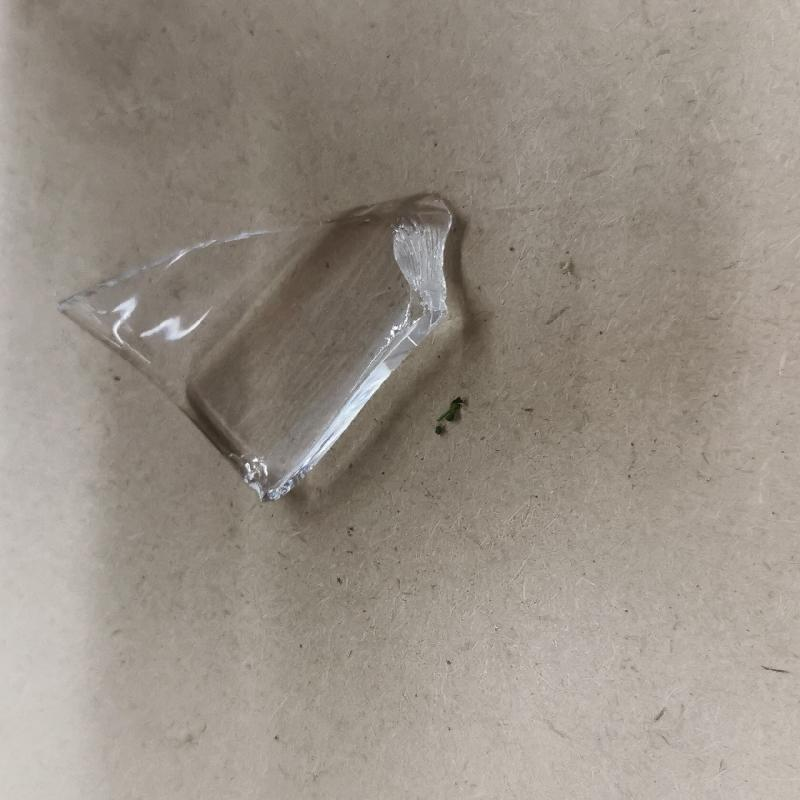glass: (54, 187, 460, 504)
